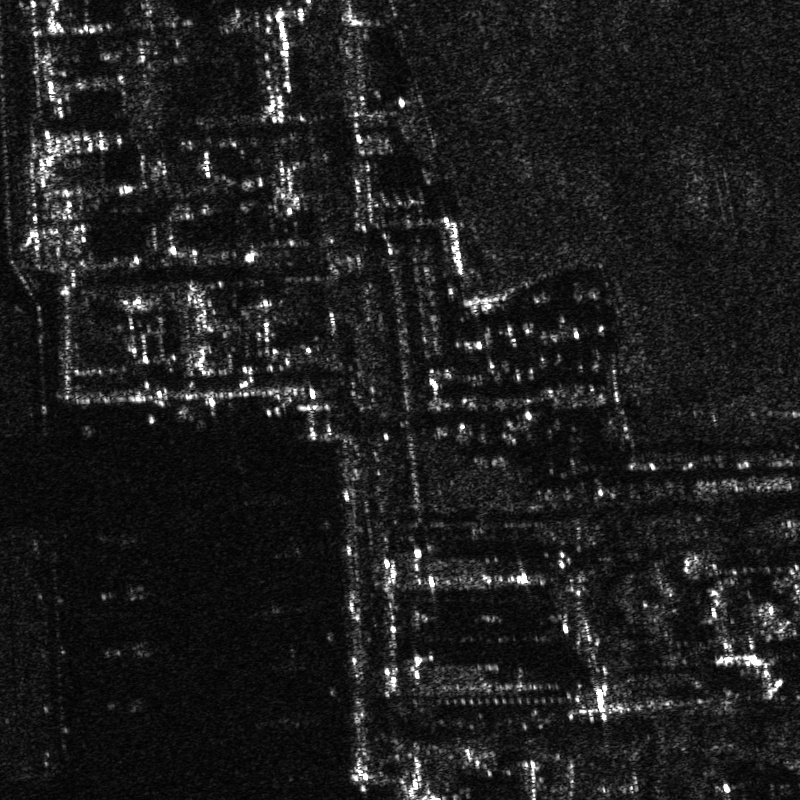ARJ21: (93, 637, 163, 666), (101, 690, 155, 719)
other: (96, 575, 157, 610)
